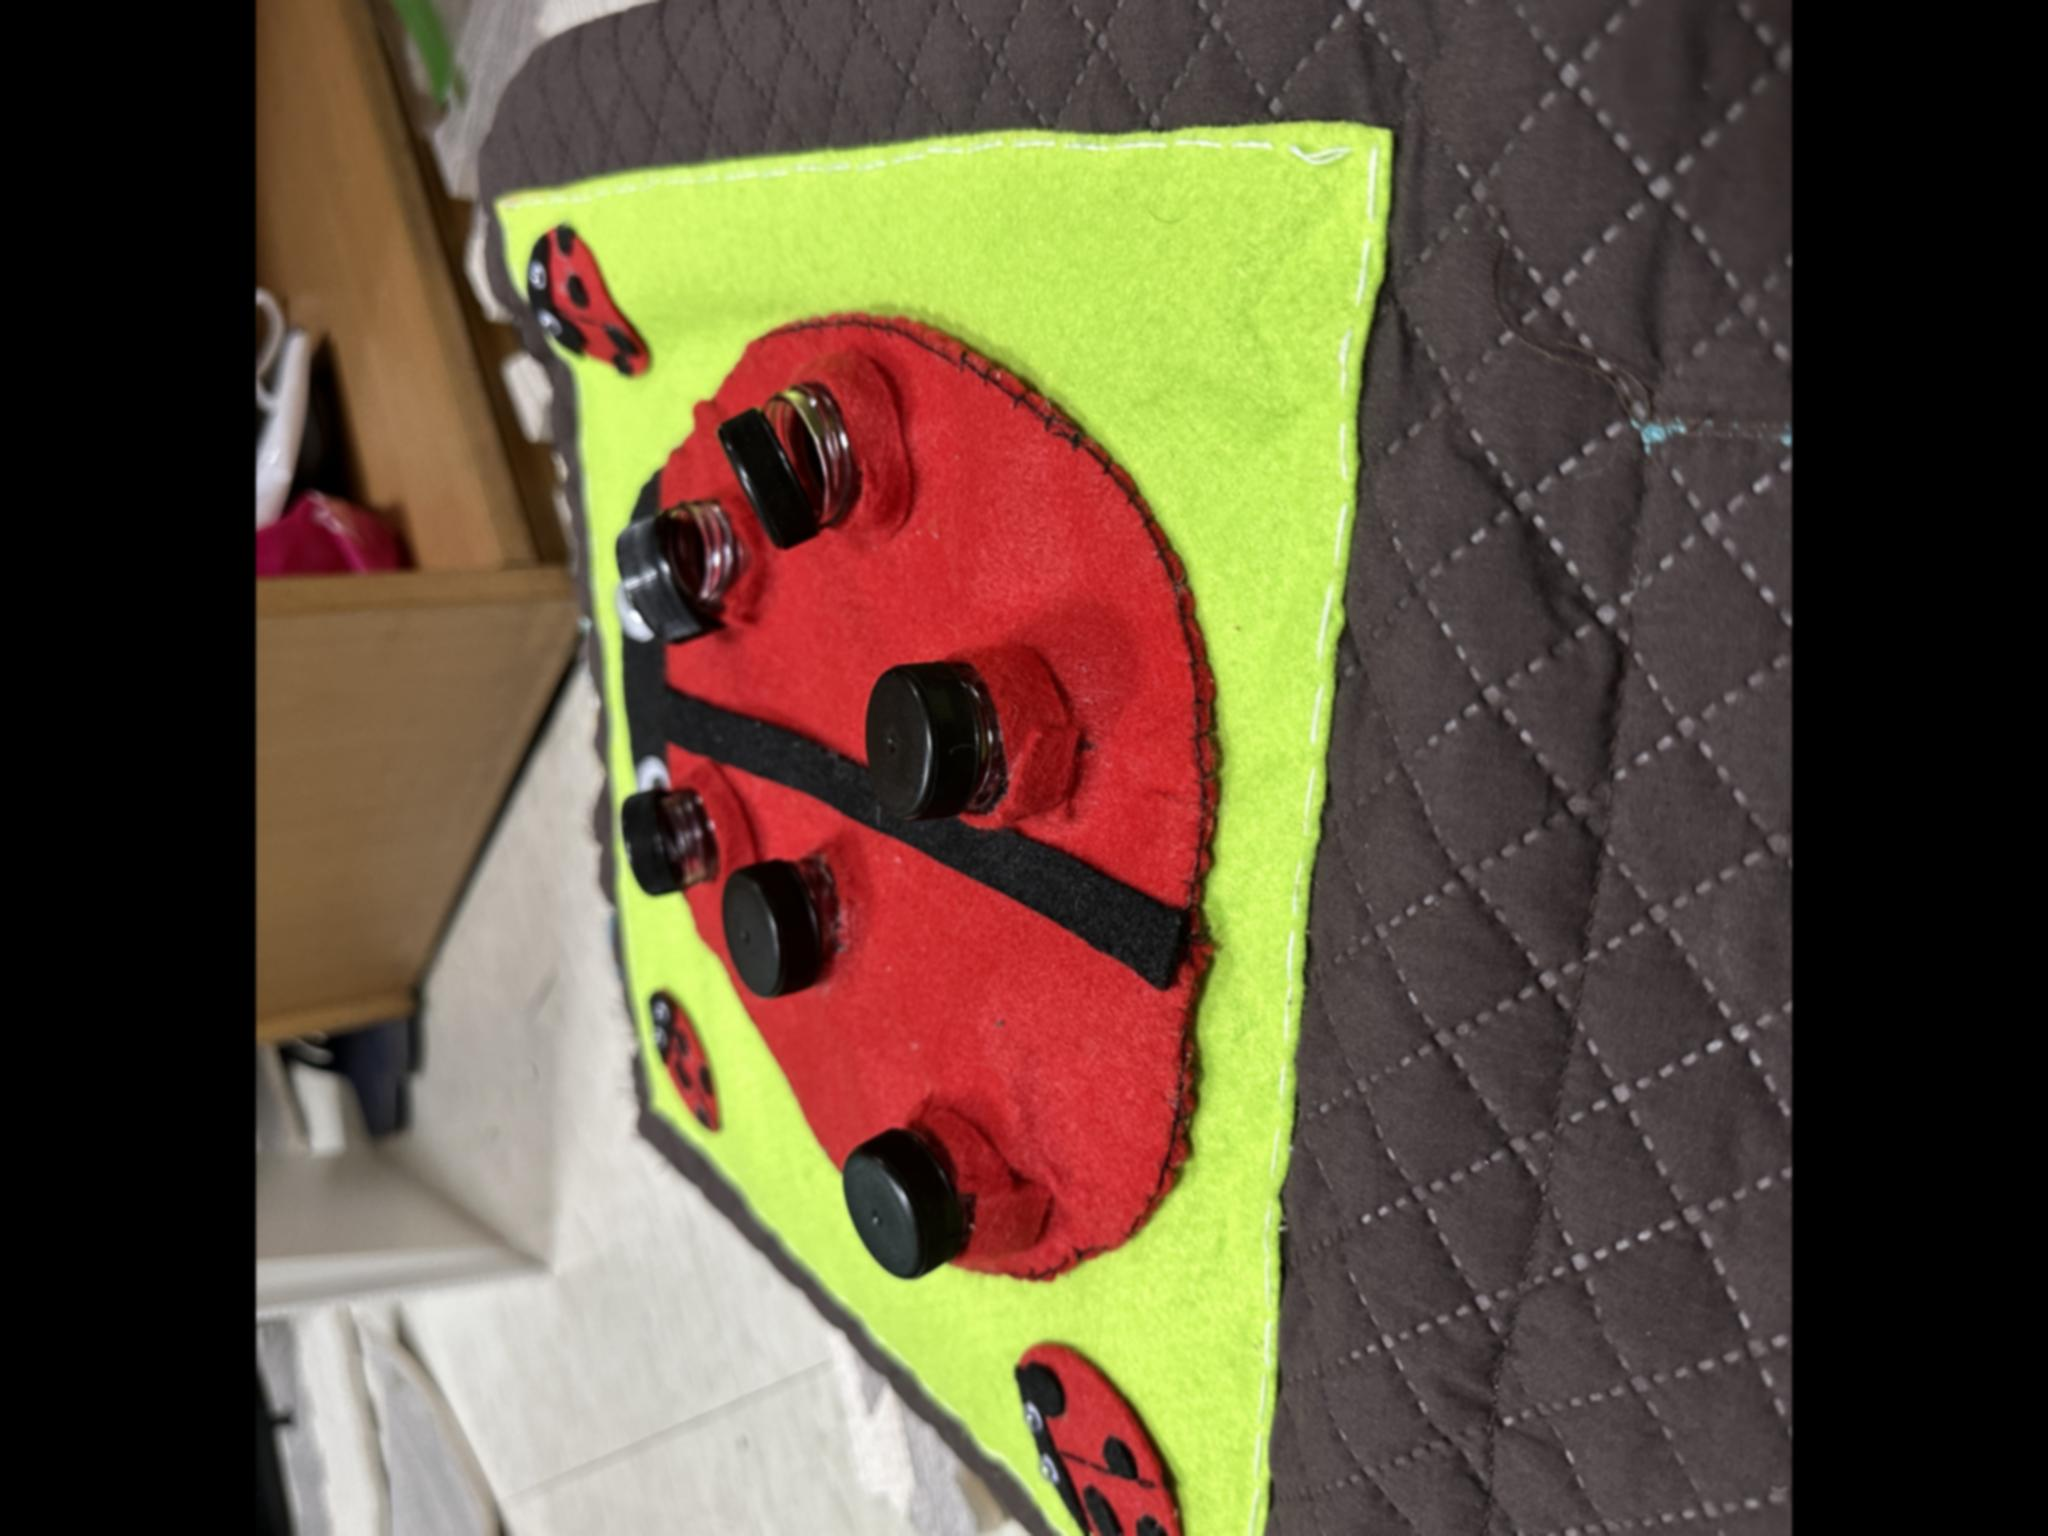cap_ng: (832, 628, 1101, 850), (713, 353, 927, 558), (598, 495, 777, 665), (613, 778, 763, 912)
cap_ok: (816, 1087, 1040, 1297), (711, 852, 874, 1008)
